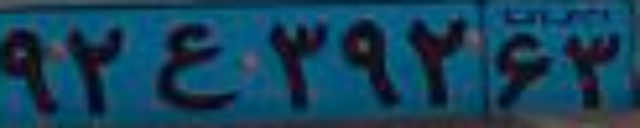2: (65, 26, 132, 115), (407, 15, 469, 107)
3: (267, 20, 329, 111), (563, 32, 624, 110)
6: (487, 32, 555, 110)
9: (0, 25, 61, 114), (340, 18, 397, 107)
ain: (154, 23, 237, 111)
